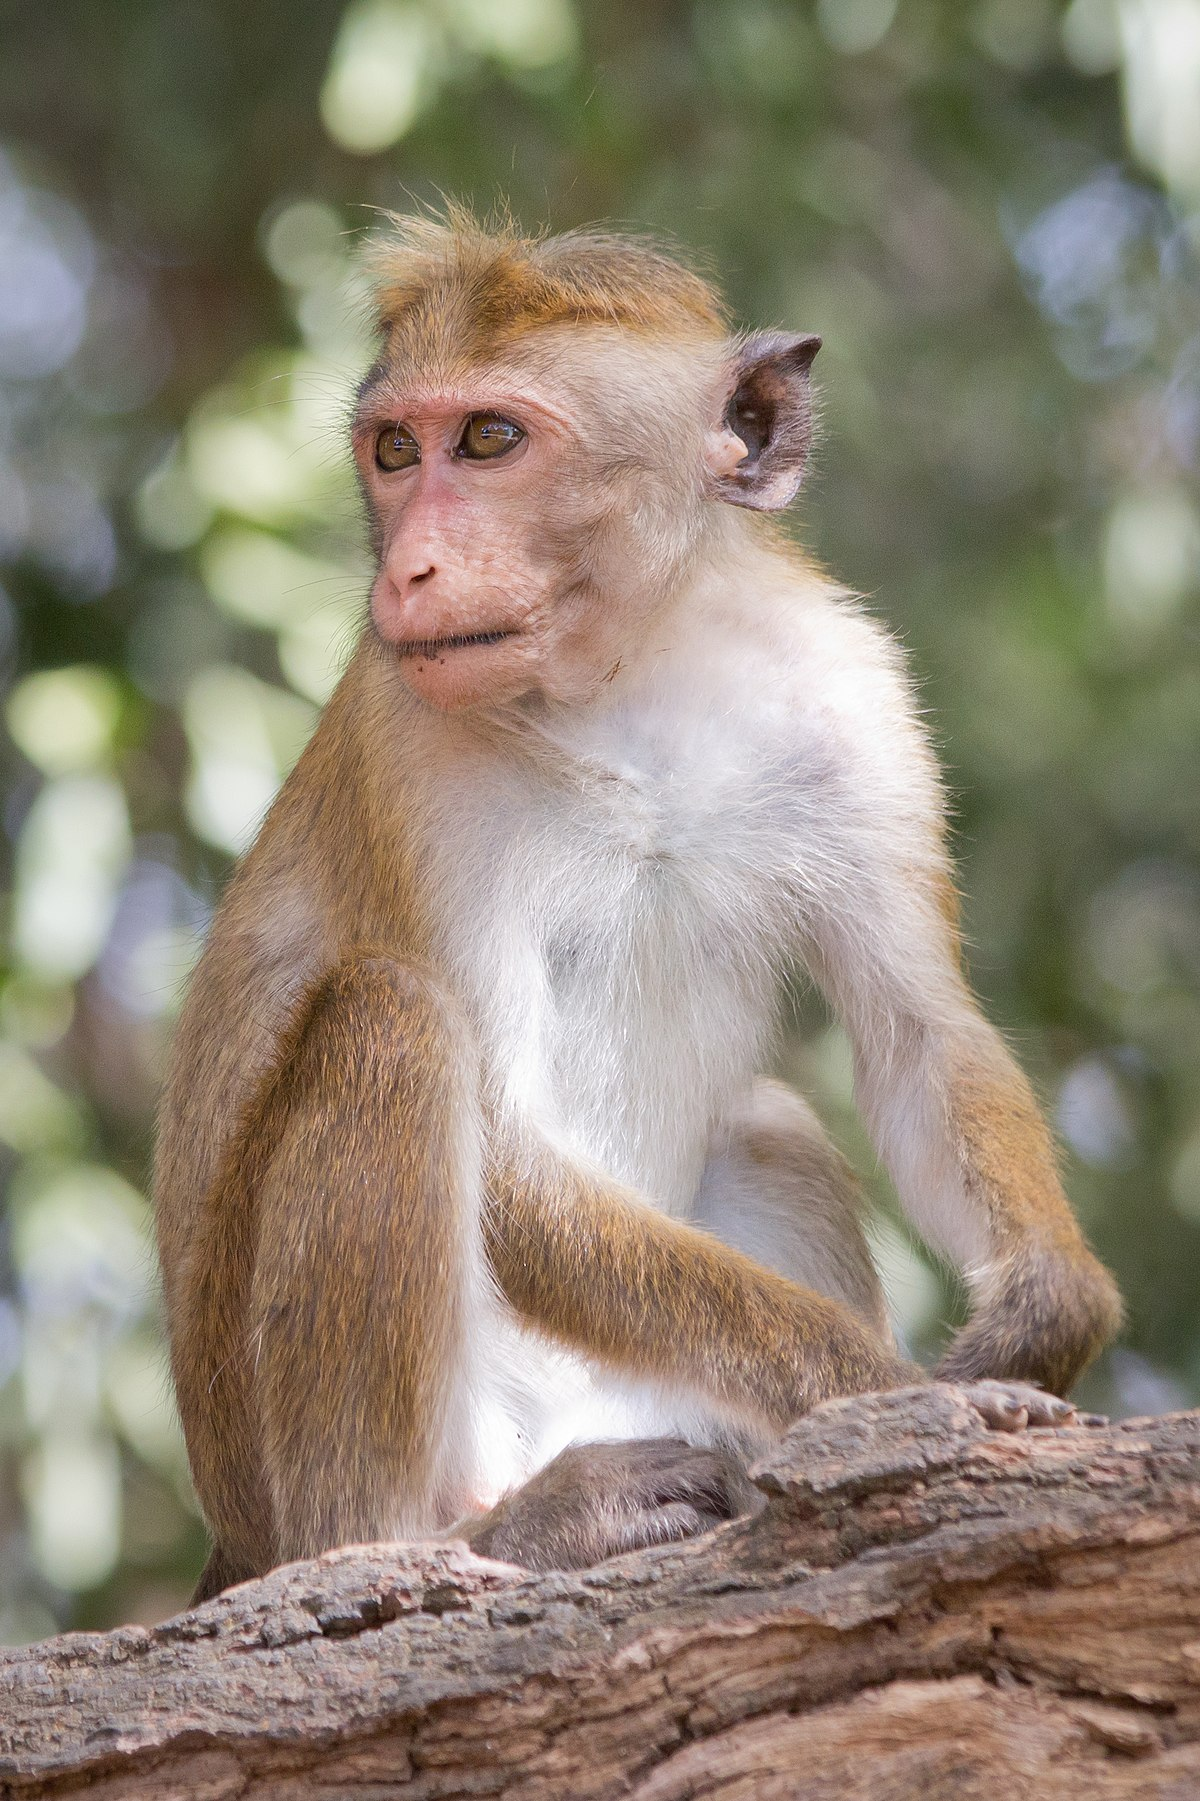Monkey: (114, 142, 1133, 1644)
